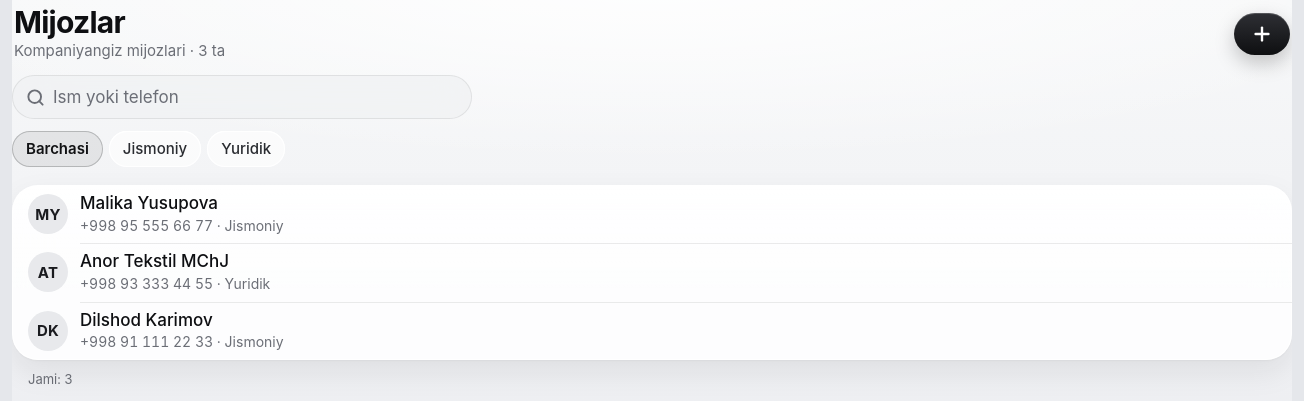
Test: typing that goes on while the address catches up is kept
The image size is (1304, 401).
Type "a" into the search field named "Qidirish".
click(256, 97); type("a")  # box [53,75,458,119]
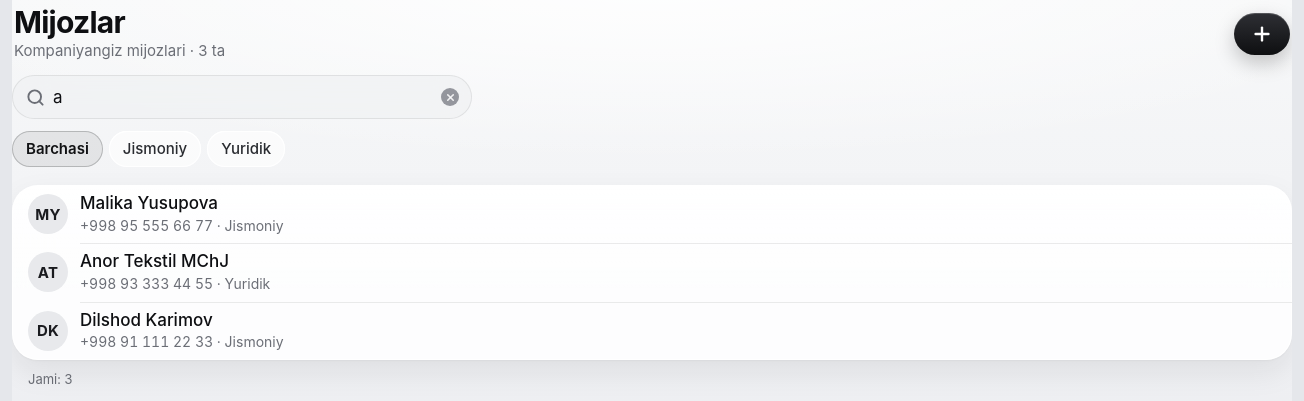
The next key is typed while "a" is still on its way to the address.
Type "n" into the search field named "Qidirish".
click(240, 97); type("n")  # box [53,75,426,119]
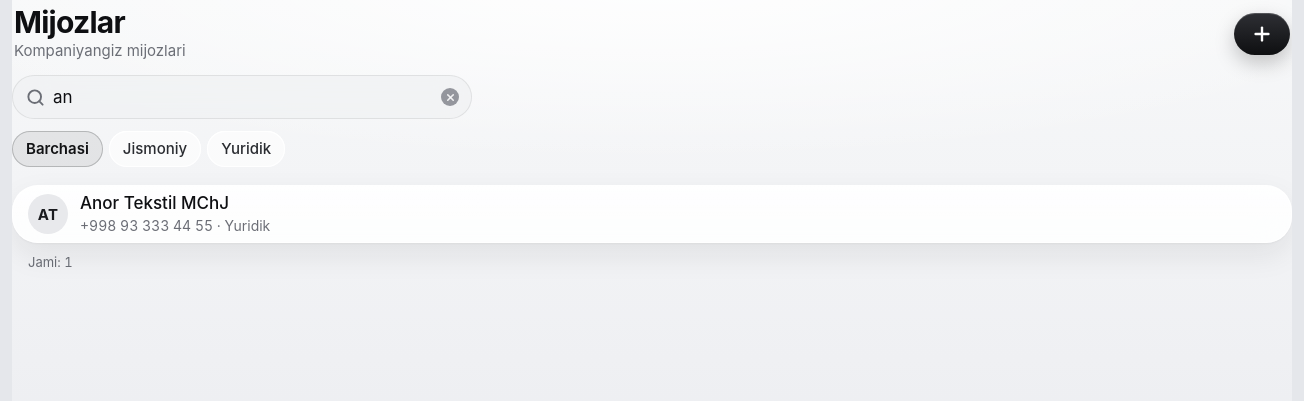
Expected: the search field named "Qidirish" holds "an", [53,75,426,119]
